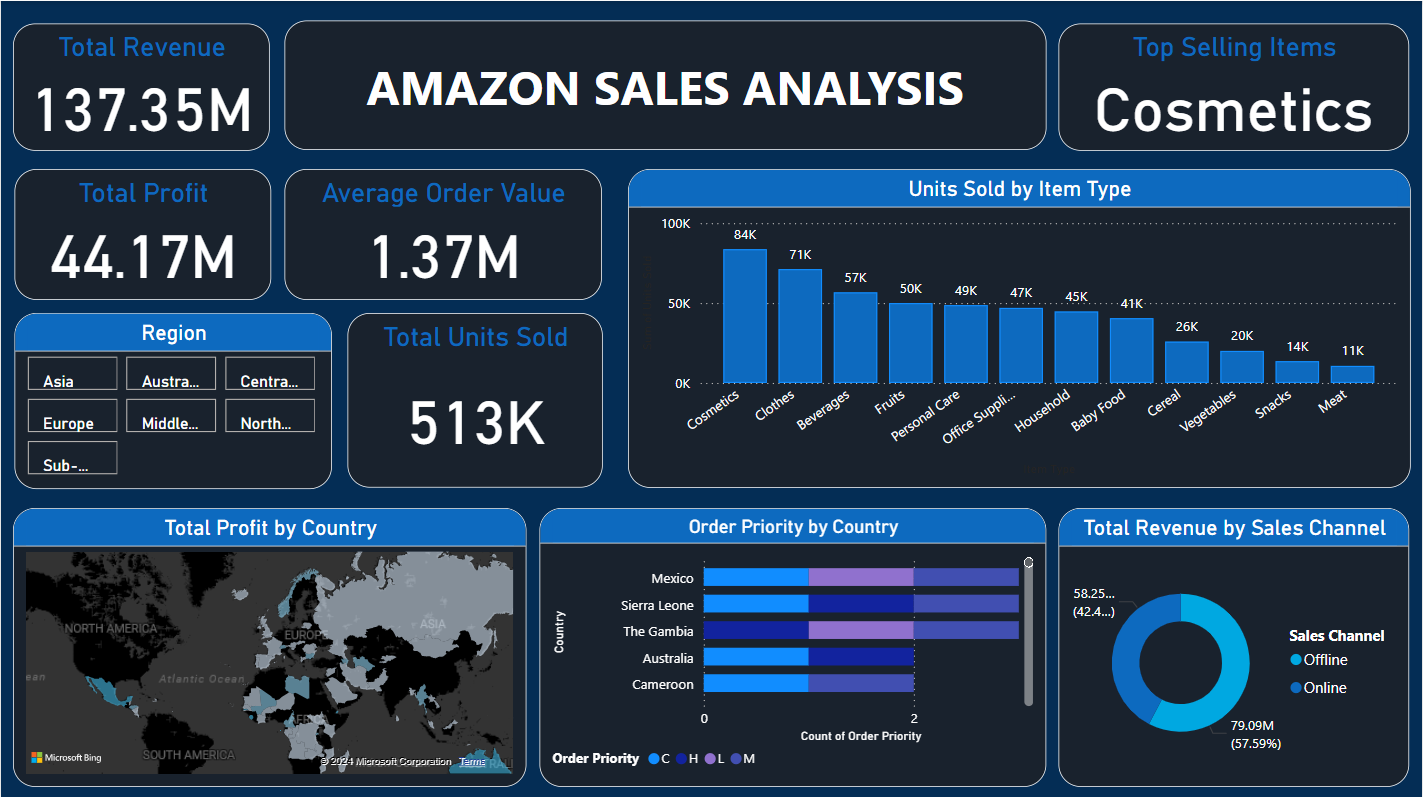

What the dashboard file says about the page in this screenshot:
{"tool":"powerbi","page":{"name":"Amazon Sales","canvas":[1280,720],"ordinal":0},"visuals":[{"type":"filledMap","title":"Total Profit by Country","fields":{"Category":["Amazon Sales data.Country"]},"box":[10.6,456.9,463,251.2],"z":0},{"type":"donutChart","title":"Total Revenue by Sales Channel","fields":{"Category":["Amazon Sales data.Sales Channel"],"Y":["Sum(Amazon Sales data.Total Revenue)"]},"box":[953.2,456.9,316.2,251.2],"z":2000},{"type":"clusteredColumnChart","title":"Units Sold by Item Type","fields":{"Category":["Amazon Sales data.Item Type"],"Y":["Sum(Amazon Sales data.Units Sold)"]},"box":[564.3,151.3,705.1,287.5],"z":3000},{"type":"textbox","box":[255.7,18.2,686.9,116.5],"z":4000},{"type":"barChart","title":"Order Priority by Country ","fields":{"Y":["Count(Amazon Sales data.Order Priority)"],"Category":["Amazon Sales data.Country"],"Series":["Amazon Sales data.Order Priority"]},"box":[485.7,456.9,456.9,251.2],"z":5000},{"type":"card","title":"Total Revenue","fields":{"Values":["Sum(Amazon Sales data.Total Revenue)"]},"box":[10.6,19.7,231.5,115],"z":6000},{"type":"card","title":"Total Profit","fields":{"Values":["Sum(Amazon Sales data.Total Profit)"]},"box":[12.1,151.3,231.5,118],"z":7000},{"type":"card","title":"Total Units Sold","fields":{"Values":["Sum(Amazon Sales data.Units Sold)"]},"box":[311.7,281.4,230,157.4],"z":8000},{"type":"card","title":"Top Selling Items","fields":{"Values":["Amazon Sales data.Top Selling Item Type"]},"box":[953.2,19.7,316.2,115],"z":9000},{"type":"card","title":"Average Order Value","fields":{"Values":["Amazon Sales data.Average Order Value"]},"box":[255.7,151.3,286,118],"z":10000},{"type":"advancedSlicerVisual","fields":{"Values":["Amazon Sales data.Region"]},"box":[12.1,281.4,286,158.9],"z":12000}]}

Visuals, with their boxes in screenshot pixels (x1, y1, x2, y2), scaled from the page's 1280x720 canvas onto the 1423x797 screenshot:
"Total Profit by Country" filledMap: 12, 506, 527, 784
"Total Revenue by Sales Channel" donutChart: 1060, 506, 1411, 784
"Units Sold by Item Type" clusteredColumnChart: 627, 167, 1411, 486
textbox: 284, 20, 1048, 149
"Order Priority by Country " barChart: 540, 506, 1048, 784
"Total Revenue" card: 12, 22, 269, 149
"Total Profit" card: 13, 167, 271, 298
"Total Units Sold" card: 347, 311, 602, 486
"Top Selling Items" card: 1060, 22, 1411, 149
"Average Order Value" card: 284, 167, 602, 298
advancedSlicerVisual - Amazon Sales data.Region: 13, 311, 331, 487
